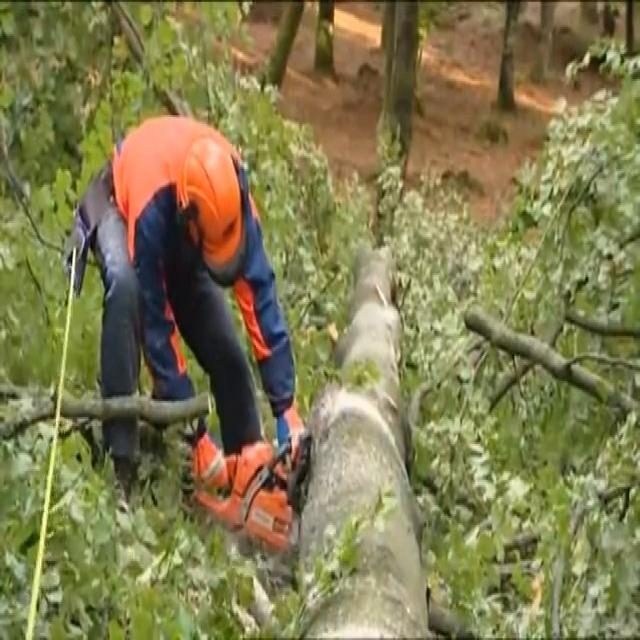Chainsaw: (177, 396, 320, 560)
